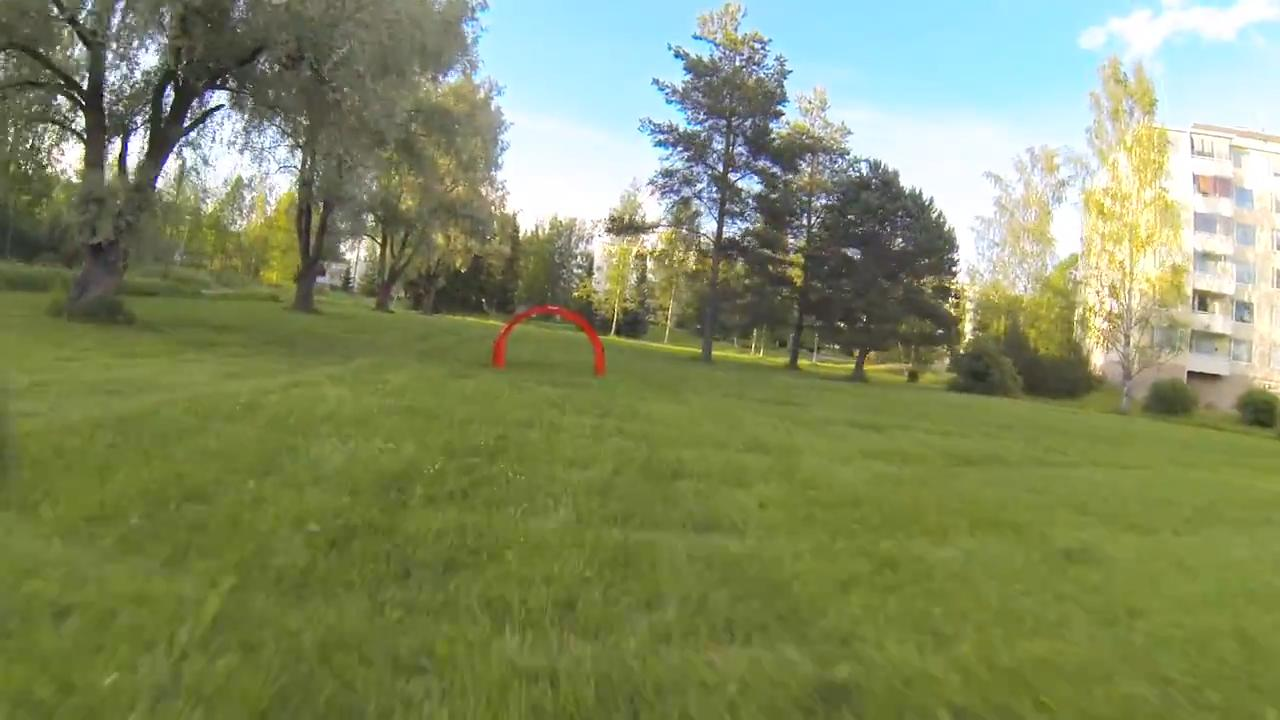gate: (486, 304, 606, 378)
